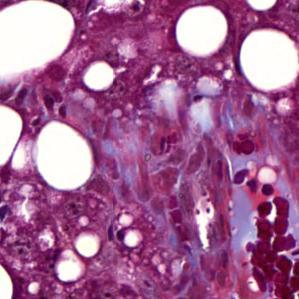steatosis: (36, 123, 94, 193), (240, 32, 299, 89), (176, 3, 229, 60)
